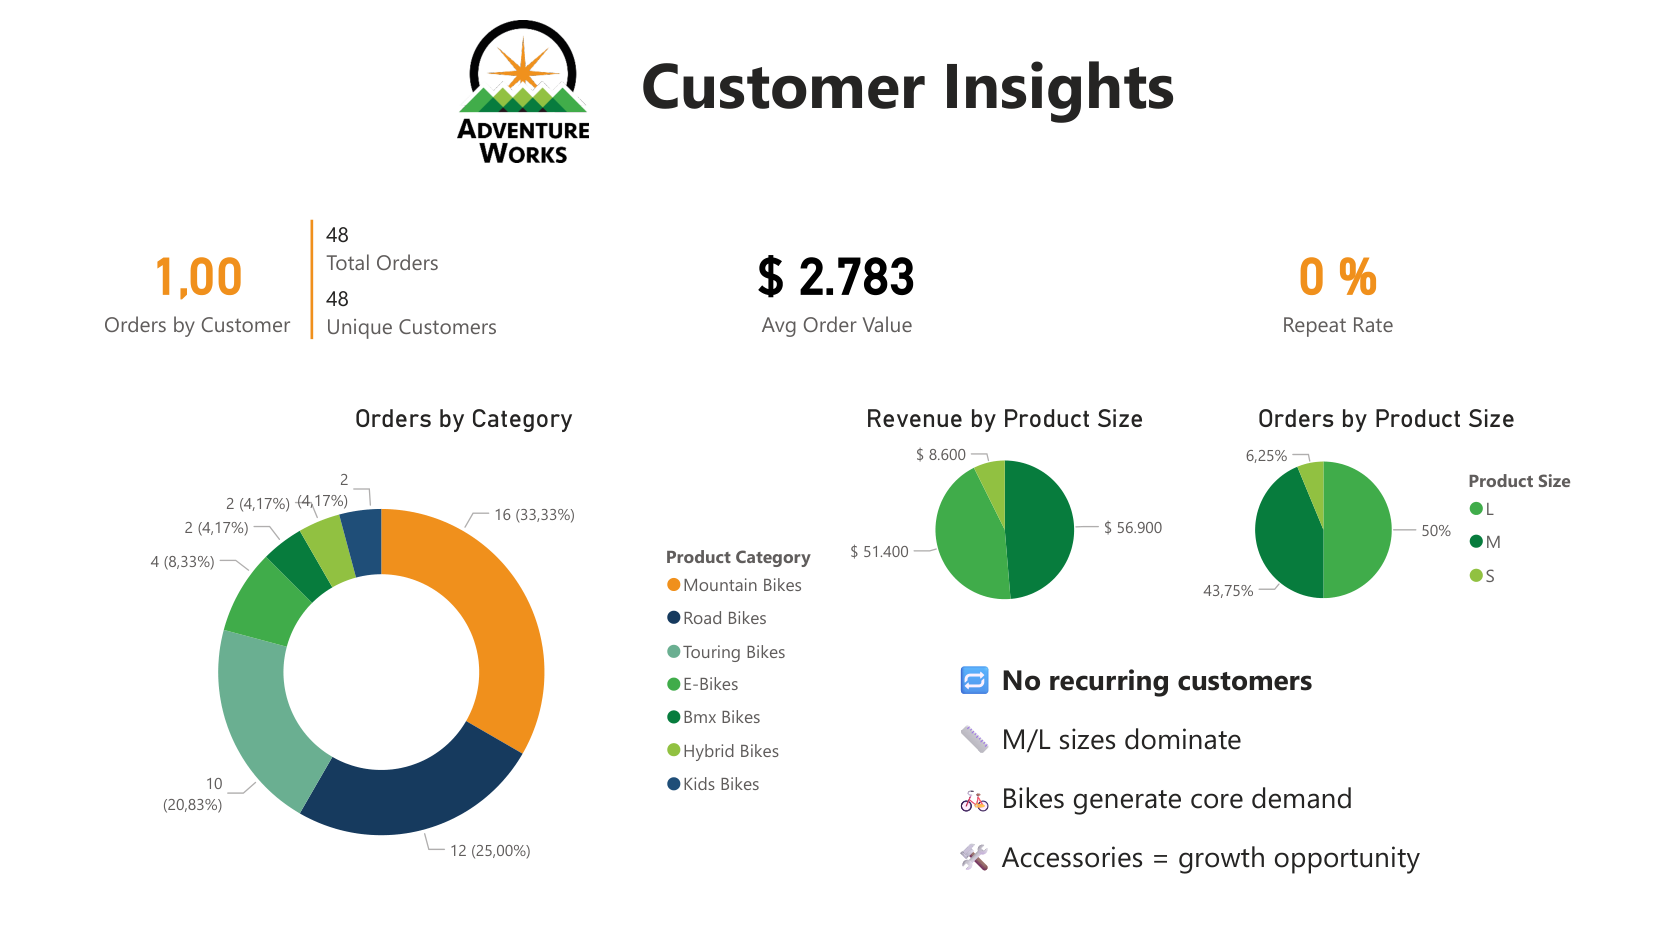

What the dashboard file says about the page in this screenshot:
{"tool":"powerbi","page":{"name":"Customer Insights","canvas":[1280,720],"ordinal":1},"visuals":[{"type":"group","id":"g1","title":"Grupo 1","box":[346,16,587,108],"z":0},{"type":"textbox","box":[454,26,479,88],"z":0,"group":"g1"},{"type":"card","fields":{"Values":["Sales.Orders by Customer"]},"box":[70,143,163,150],"z":0,"group":"g2"},{"type":"pieChart","title":"Orders by Product Size","fields":{"Y":["Sales.Total Orders"],"Category":["Sales.Product Size"]},"box":[894.6,308,327.4,171],"z":0,"group":"g3"},{"type":"image","box":[346,16,108,108],"z":1000,"group":"g1"},{"type":"multiRowCard","fields":{"Values":["Sales.Total Orders","Sales.Unique Customers"]},"box":[233,163,248,109],"z":1000,"group":"g2"},{"type":"donutChart","title":"Orders by Category","fields":{"Y":["Sales.Total Orders"],"Category":["Sales.Product Category"]},"box":[70,308,570,388],"z":1000},{"type":"pieChart","title":"Revenue by Product Size","fields":{"Category":["Sales.Product Size"],"Y":["Sales.Total Revenue"]},"box":[640,308,254.6,171],"z":1000,"group":"g3"},{"type":"card","fields":{"Values":["Sales.Repeat Rate"]},"box":[940,143,163,150],"z":2000},{"type":"group","id":"g2","title":"Grupo 2","box":[70,143,411,150],"z":3000},{"type":"card","fields":{"Values":["Sales.Avg Order Value"]},"box":[491,143,297,150],"z":4000},{"type":"group","id":"g3","title":"Grupo 3","box":[640,308,582,171],"z":5000},{"type":"textbox","box":[725,499,411,197],"z":6000}]}

Visuals, with their boxes in screenshot pixels (x1, y1, x2, y2), scaled from the page's 1280x720 canvas onto the 1676x944 screenshot:
"Grupo 1" group: bbox(453, 21, 1222, 163)
textbox: bbox(594, 34, 1222, 149)
card - Sales.Orders by Customer: bbox(92, 187, 305, 384)
"Orders by Product Size" pieChart: bbox(1171, 404, 1600, 628)
image: bbox(453, 21, 594, 163)
multiRowCard - Sales.Total Orders x Sales.Unique Customers: bbox(305, 214, 630, 357)
"Orders by Category" donutChart: bbox(92, 404, 838, 913)
"Revenue by Product Size" pieChart: bbox(838, 404, 1171, 628)
card - Sales.Repeat Rate: bbox(1231, 187, 1444, 384)
"Grupo 2" group: bbox(92, 187, 630, 384)
card - Sales.Avg Order Value: bbox(643, 187, 1032, 384)
"Grupo 3" group: bbox(838, 404, 1600, 628)
textbox: bbox(949, 654, 1487, 913)
